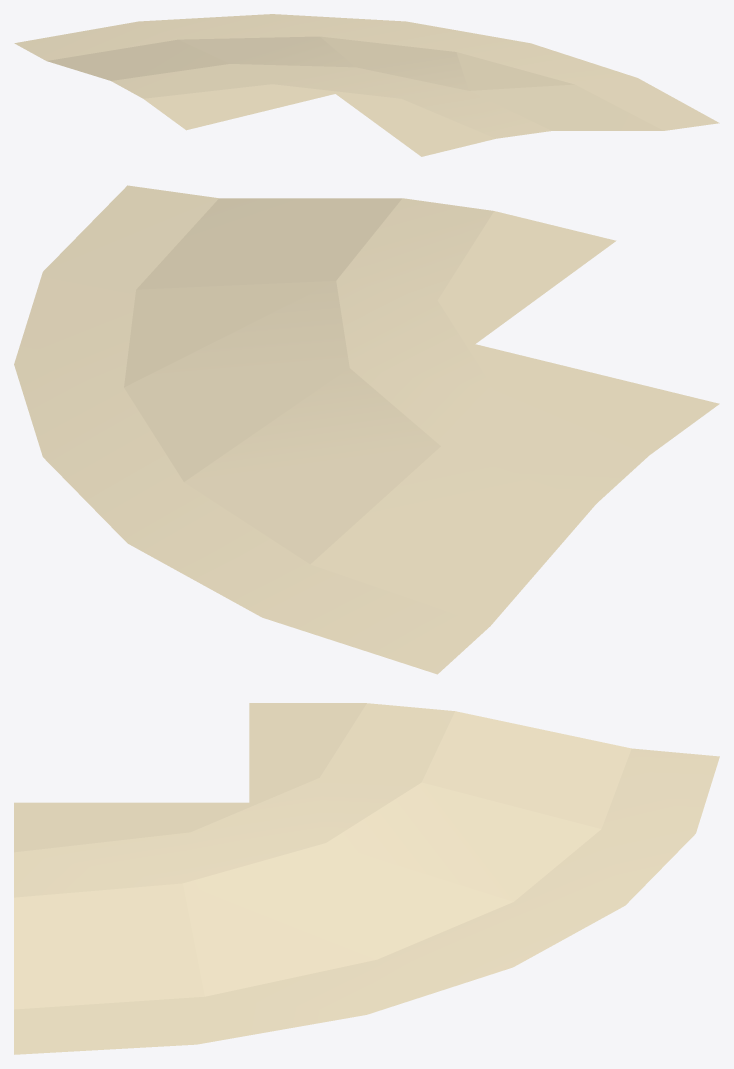
Rendered from Beach_Terrain_Sand_Corner_Outer_4x4.glb.
3 views of the same model, one above another, from view 1: azimuth 30°, elevation 25°; view 2: azimuth 150°, elevation 25°; view 3: azimuth 270°, elevation 25° (orthographic). The views are drawn at different scales.
Visible parts, largest first — view 1: Beach_Terrain_Sand_Corner_Outer_4x4; view 2: Beach_Terrain_Sand_Corner_Outer_4x4; view 3: Beach_Terrain_Sand_Corner_Outer_4x4.
Boxes of the visible parts, x1,y1,x2,y2 form: Beach_Terrain_Sand_Corner_Outer_4x4: [14, 14, 719, 156]; Beach_Terrain_Sand_Corner_Outer_4x4: [14, 185, 719, 674]; Beach_Terrain_Sand_Corner_Outer_4x4: [14, 703, 719, 1054].
Size of the model in its own units: 6 by 0.5 by 6.
